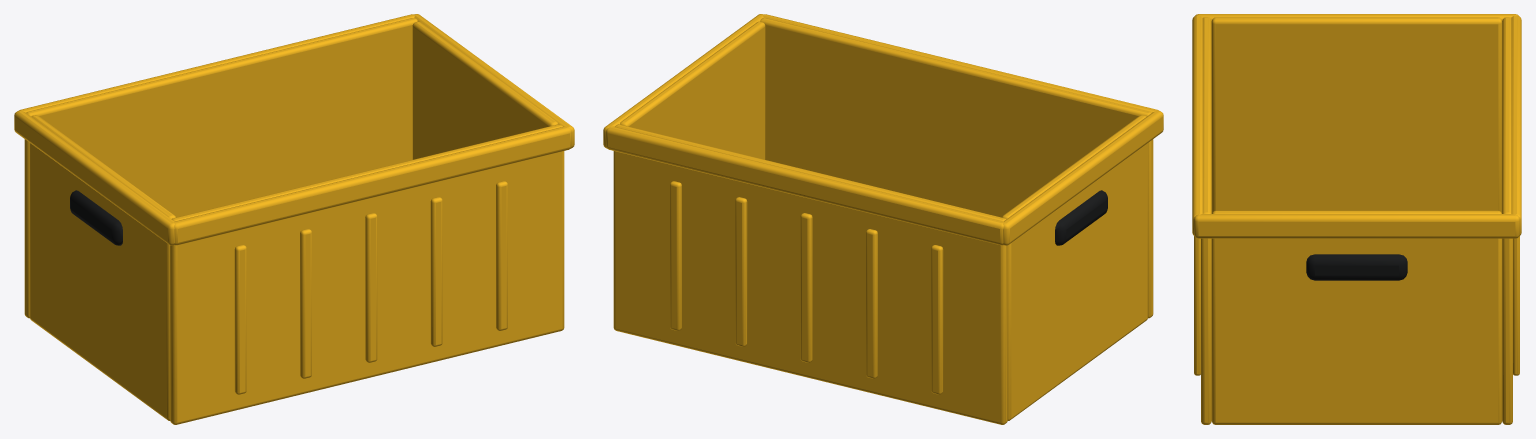
The model's file is crate_plastic_blank.fbx.
3 renders of one model, left to right at view 1: azimuth 30°, elevation 25°; view 2: azimuth 150°, elevation 25°; view 3: azimuth 270°, elevation 25°, orthographic. The views are drawn at different scales.
Visible parts, largest first — view 1: crate_plastic_blank; view 2: crate_plastic_blank; view 3: crate_plastic_blank.
Part boxes in pixels (<box>): crate_plastic_blank: <box>14,14,574,424</box>; crate_plastic_blank: <box>603,14,1163,424</box>; crate_plastic_blank: <box>1192,14,1521,424</box>.
Size of the model in its own units: 0.622 by 0.3 by 0.422.
